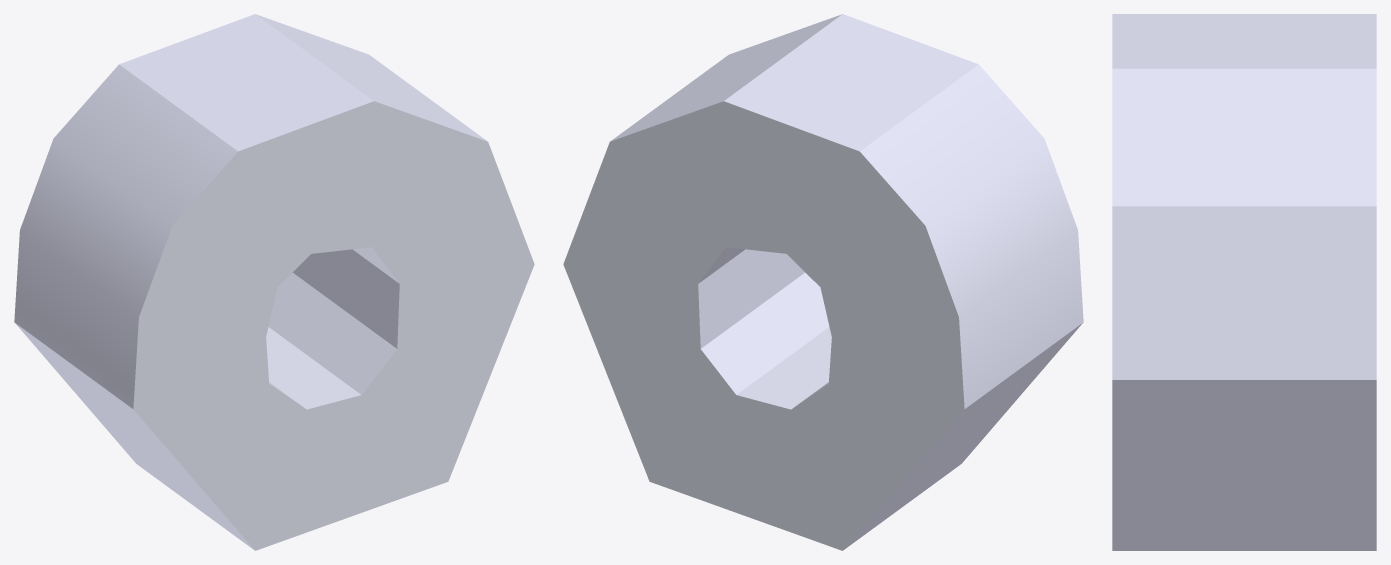
The model's file is O_Zyzol_Grey.glb.
The picture shows the model from 3 angles, left to right: view 1: azimuth 30°, elevation 25°; view 2: azimuth 150°, elevation 25°; view 3: azimuth 270°, elevation 25°; orthographic projection. The views are drawn at different scales.
Visible parts, largest first — view 1: o_Zyzol_Grey; view 2: o_Zyzol_Grey; view 3: o_Zyzol_Grey.
Boxes of the visible parts, x1,y1,x2,y2 form: o_Zyzol_Grey: [14, 14, 534, 550]; o_Zyzol_Grey: [563, 14, 1083, 550]; o_Zyzol_Grey: [1112, 14, 1376, 550].
Size of what is drawn, in the model's own units: 0.0876 by 0.0877 by 0.045.
2 materials, 2 textured.
